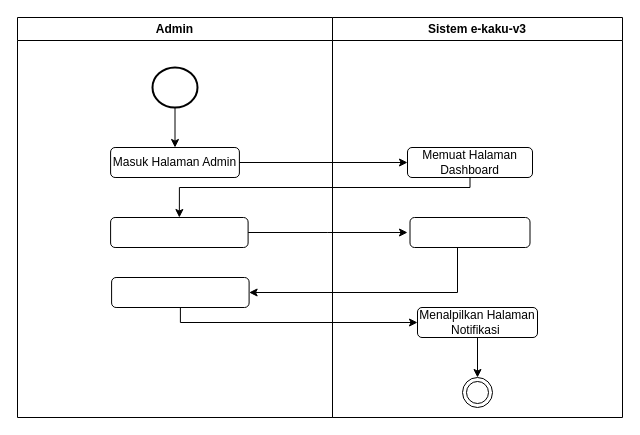
Image size: 640x435. Some labels were removed from this diagram. The centre of each missing label's shape, as x and y in pixels:
"Click Icon Lonceng Notifikasi" belongs at [179,232].
"Klik Opsi Lihat Semua Notifikasi" belongs at [180,292].
"menampilkan Dropdown Notifikasi" belongs at [469,232].
